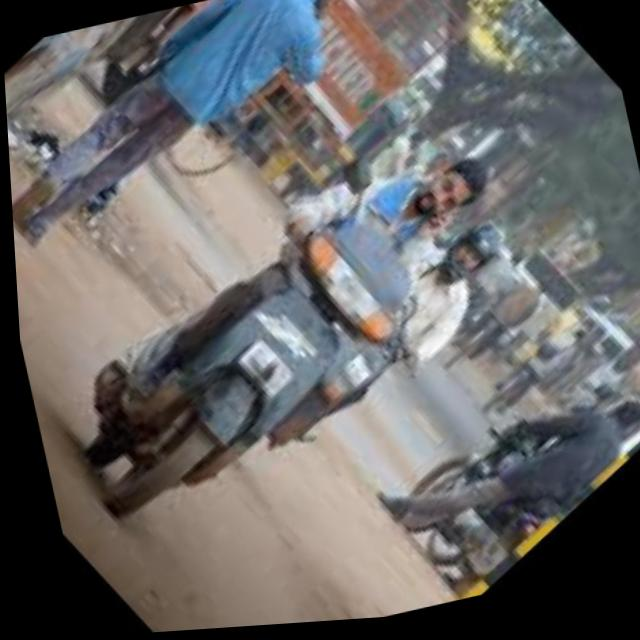USING_MOBILE: (379, 204, 474, 289)
